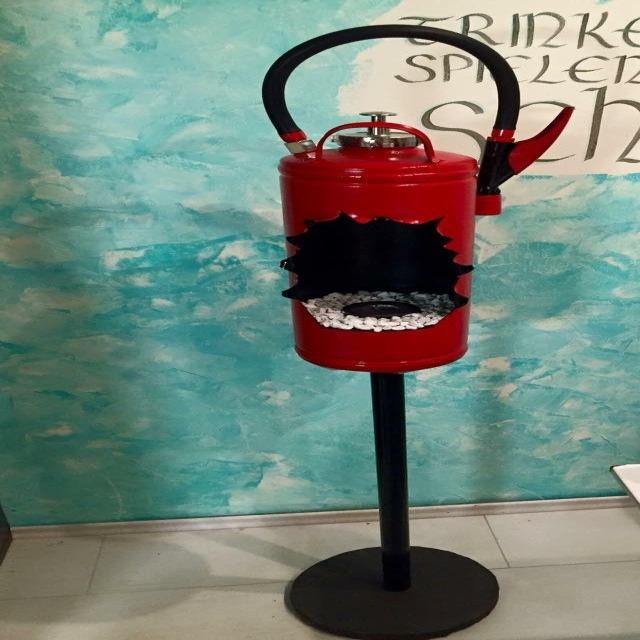fire_extinguisher: (242, 18, 584, 382)
